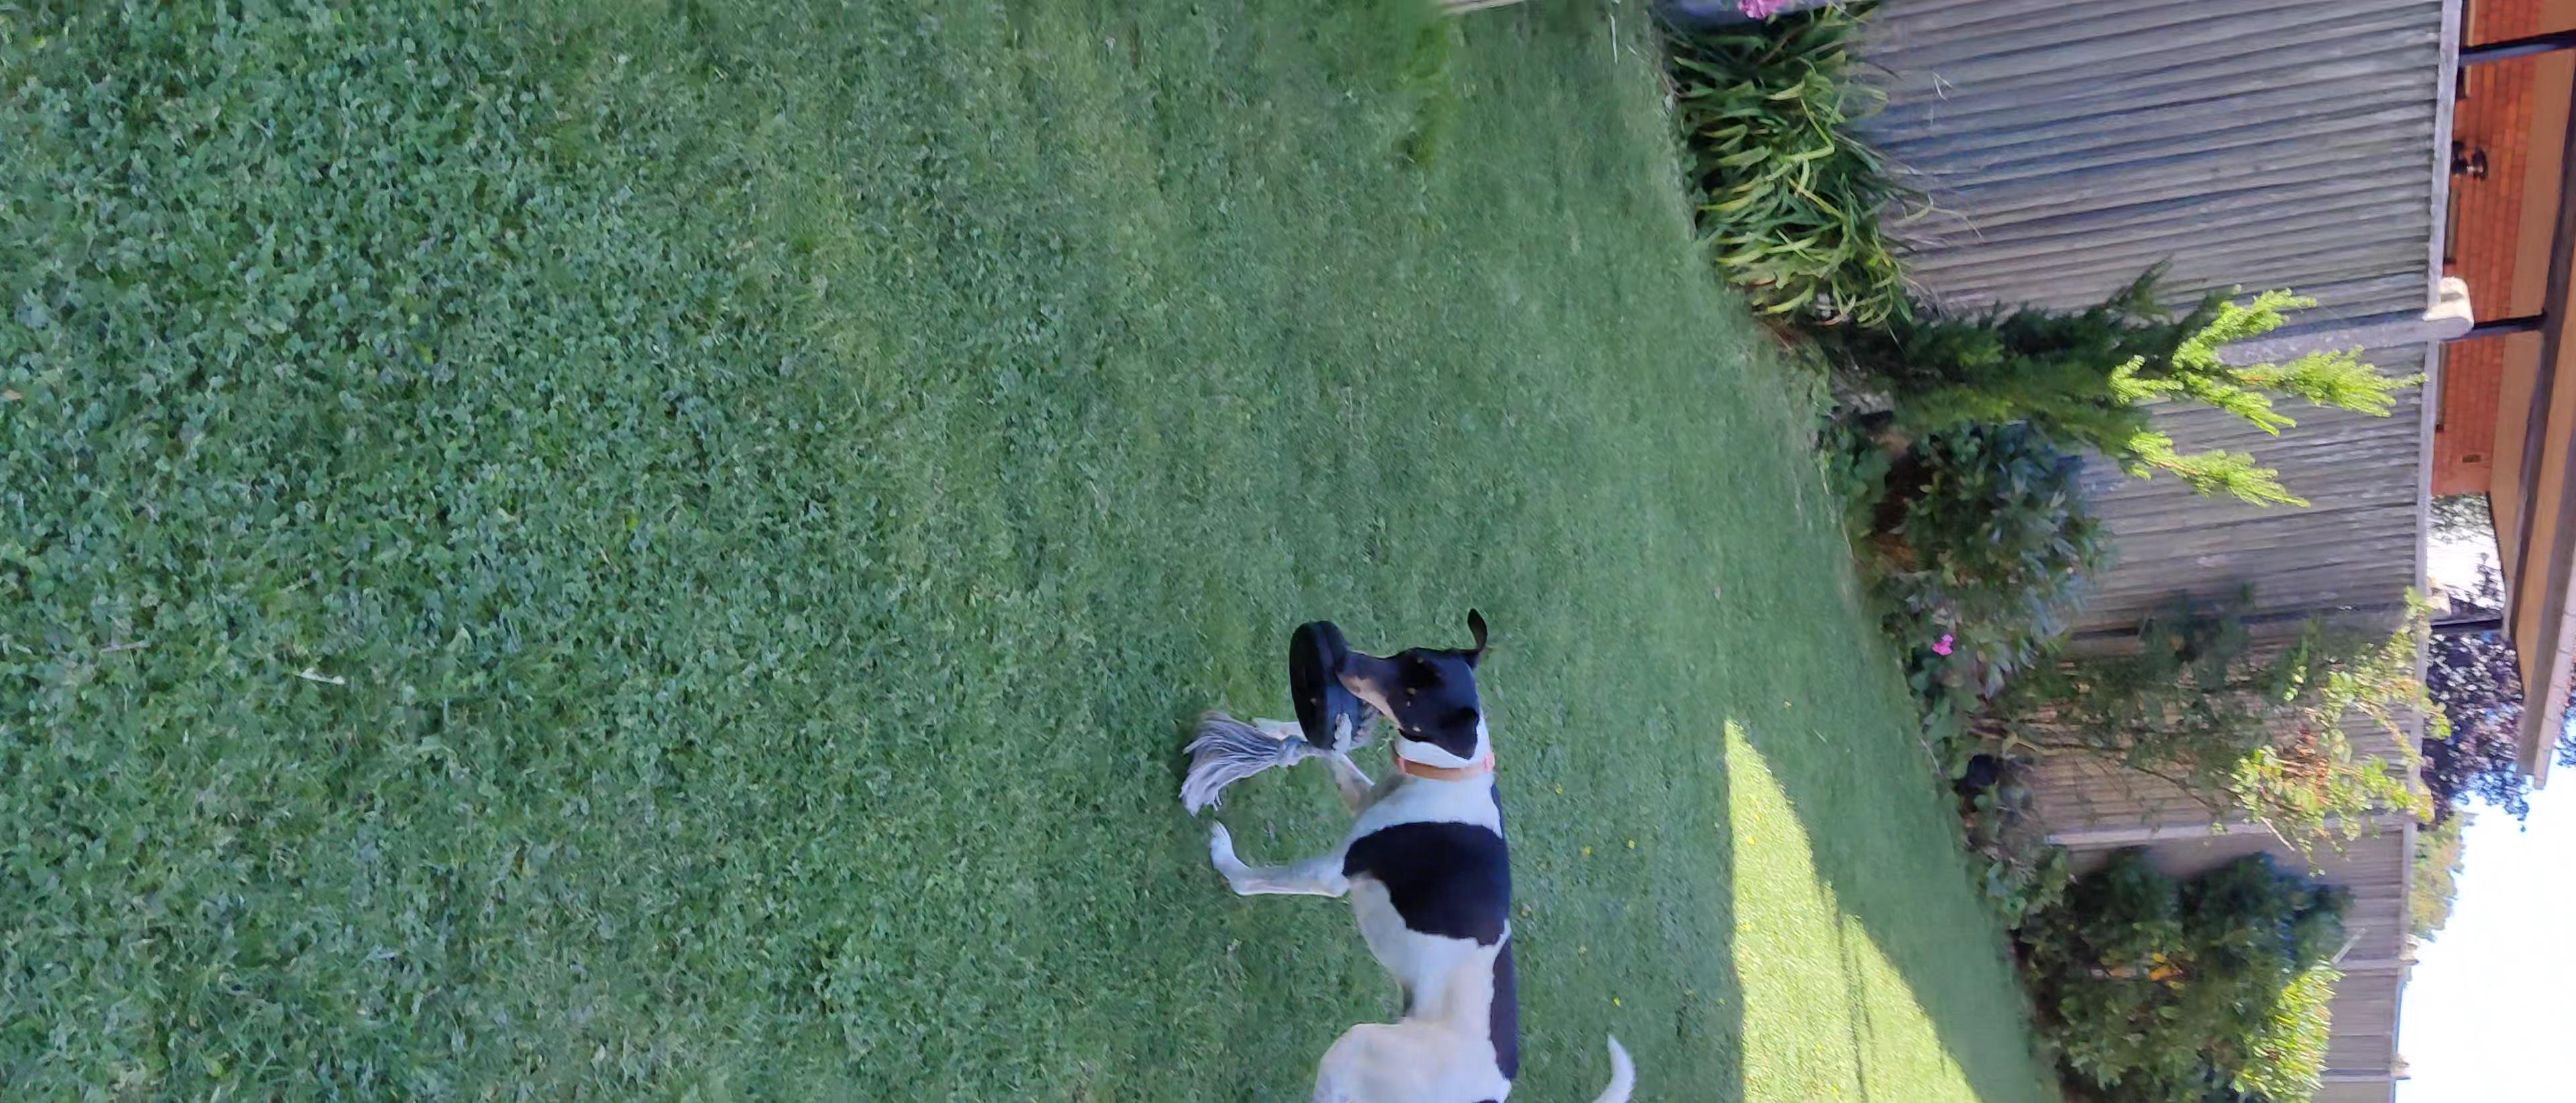Dog: (1196, 584, 1656, 1103)
